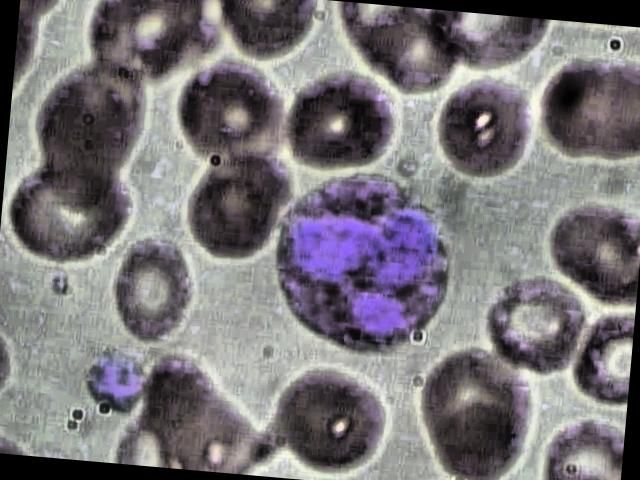Platelets: (75, 348, 154, 414)
RBC: (258, 354, 398, 474), (2, 152, 141, 272), (272, 65, 402, 177), (168, 52, 290, 171), (481, 265, 594, 379), (432, 72, 544, 182), (539, 195, 640, 314), (98, 231, 200, 347)
WBC: (264, 160, 466, 362)
